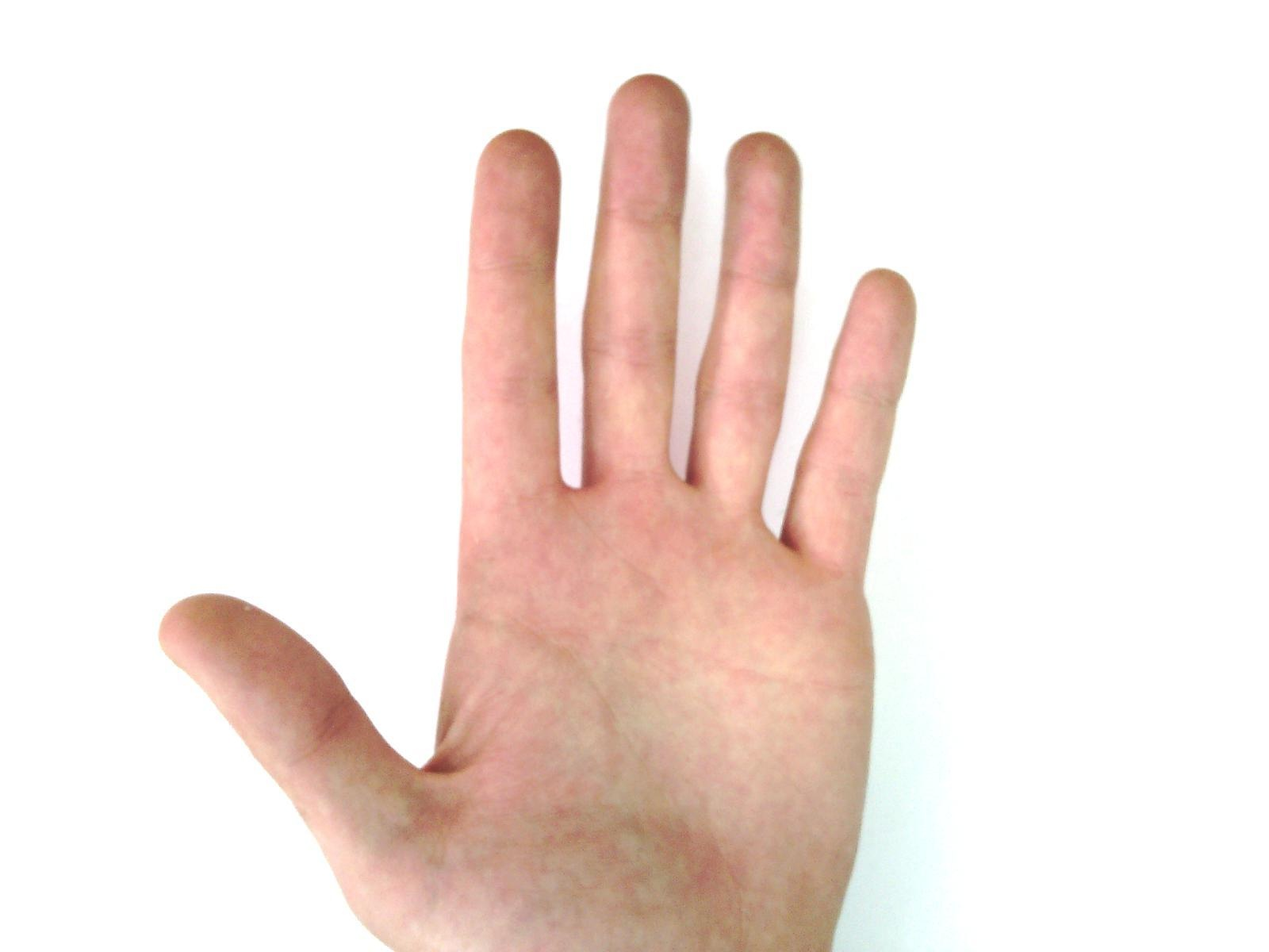open_palm: (157, 73, 922, 951)
